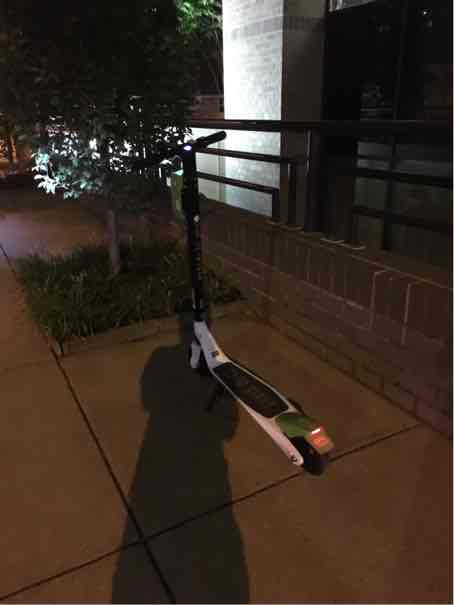scooter: (124, 129, 337, 479)
